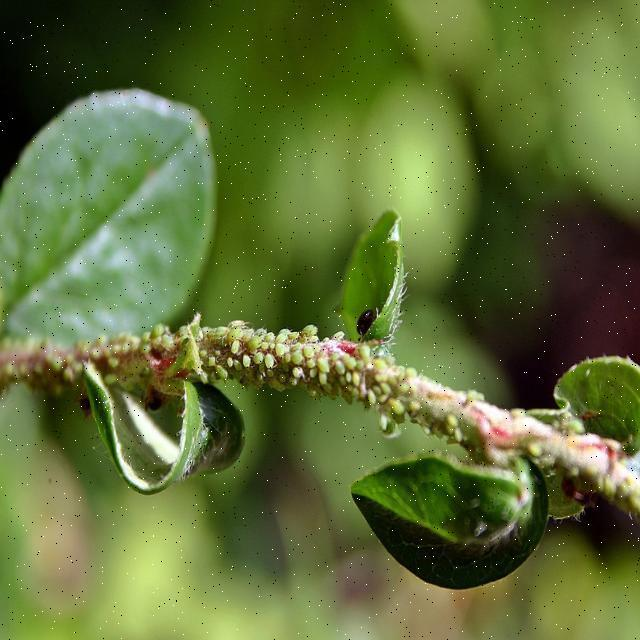Aphids: (124, 321, 440, 433)
